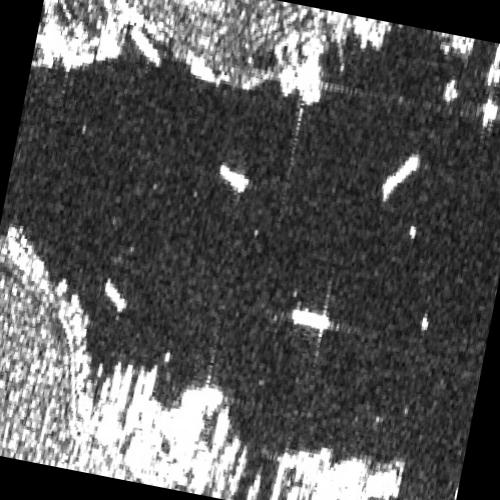ship: (381, 152, 421, 204), (129, 25, 160, 67), (290, 307, 331, 332), (116, 361, 134, 412), (219, 165, 250, 193), (105, 278, 126, 314), (108, 361, 123, 406), (143, 364, 157, 404), (132, 368, 146, 405), (97, 376, 112, 408)
